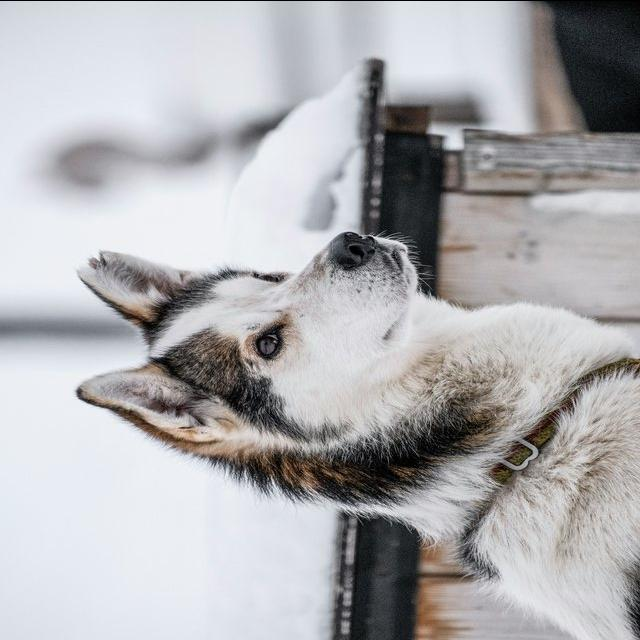husky: (73, 228, 638, 639)
